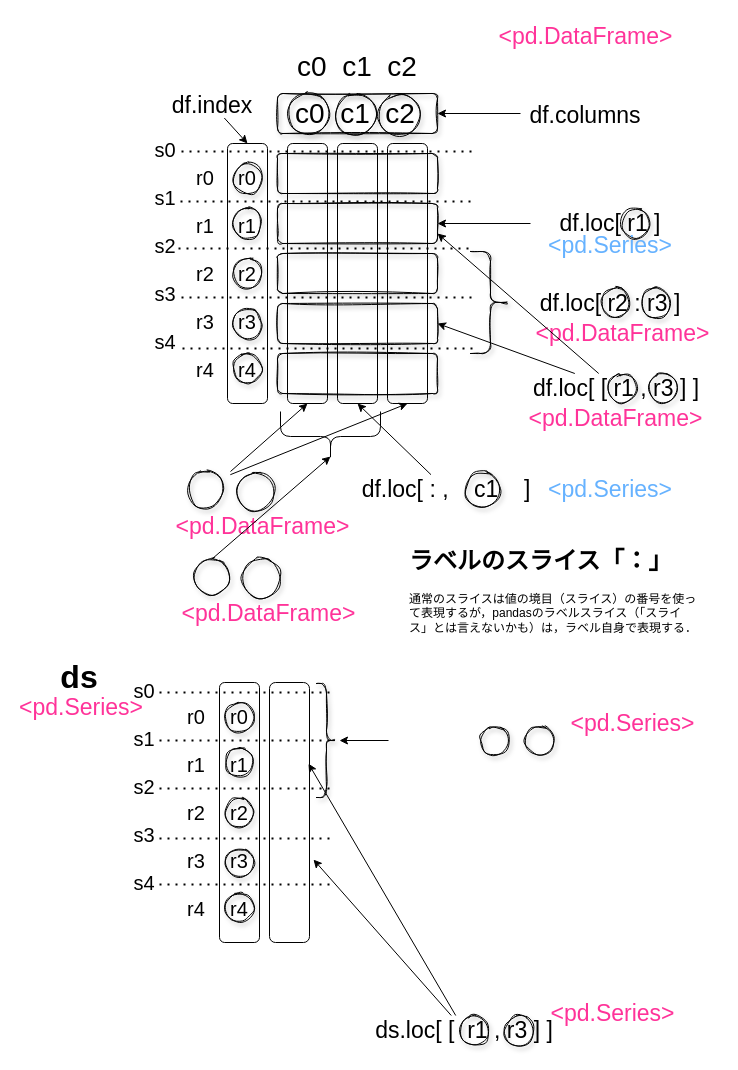
Some shapes in this 738 by 1070 pixel diagram are drawn without their labels. The shapes that lost their labels are listed below. From the top down, each one's centre as x and y in pixels, then its label:
At (x=206, y=490): "df.loc[ : , [ c0 , c2 ] ]".
At (x=212, y=578): "df.loc[ : , c0 : c1 ]".
At (x=495, y=741): "ds.loc[ r0 : r1 ]".
